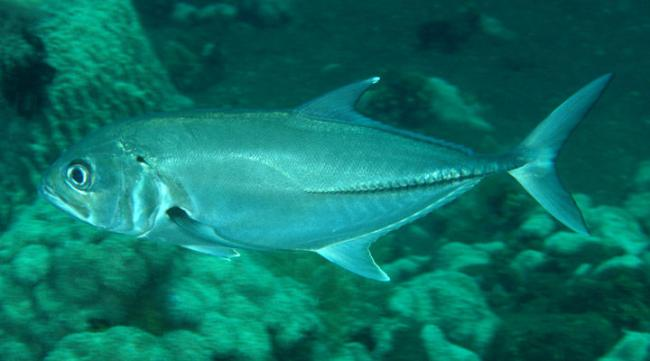fish: (42, 72, 616, 283)
